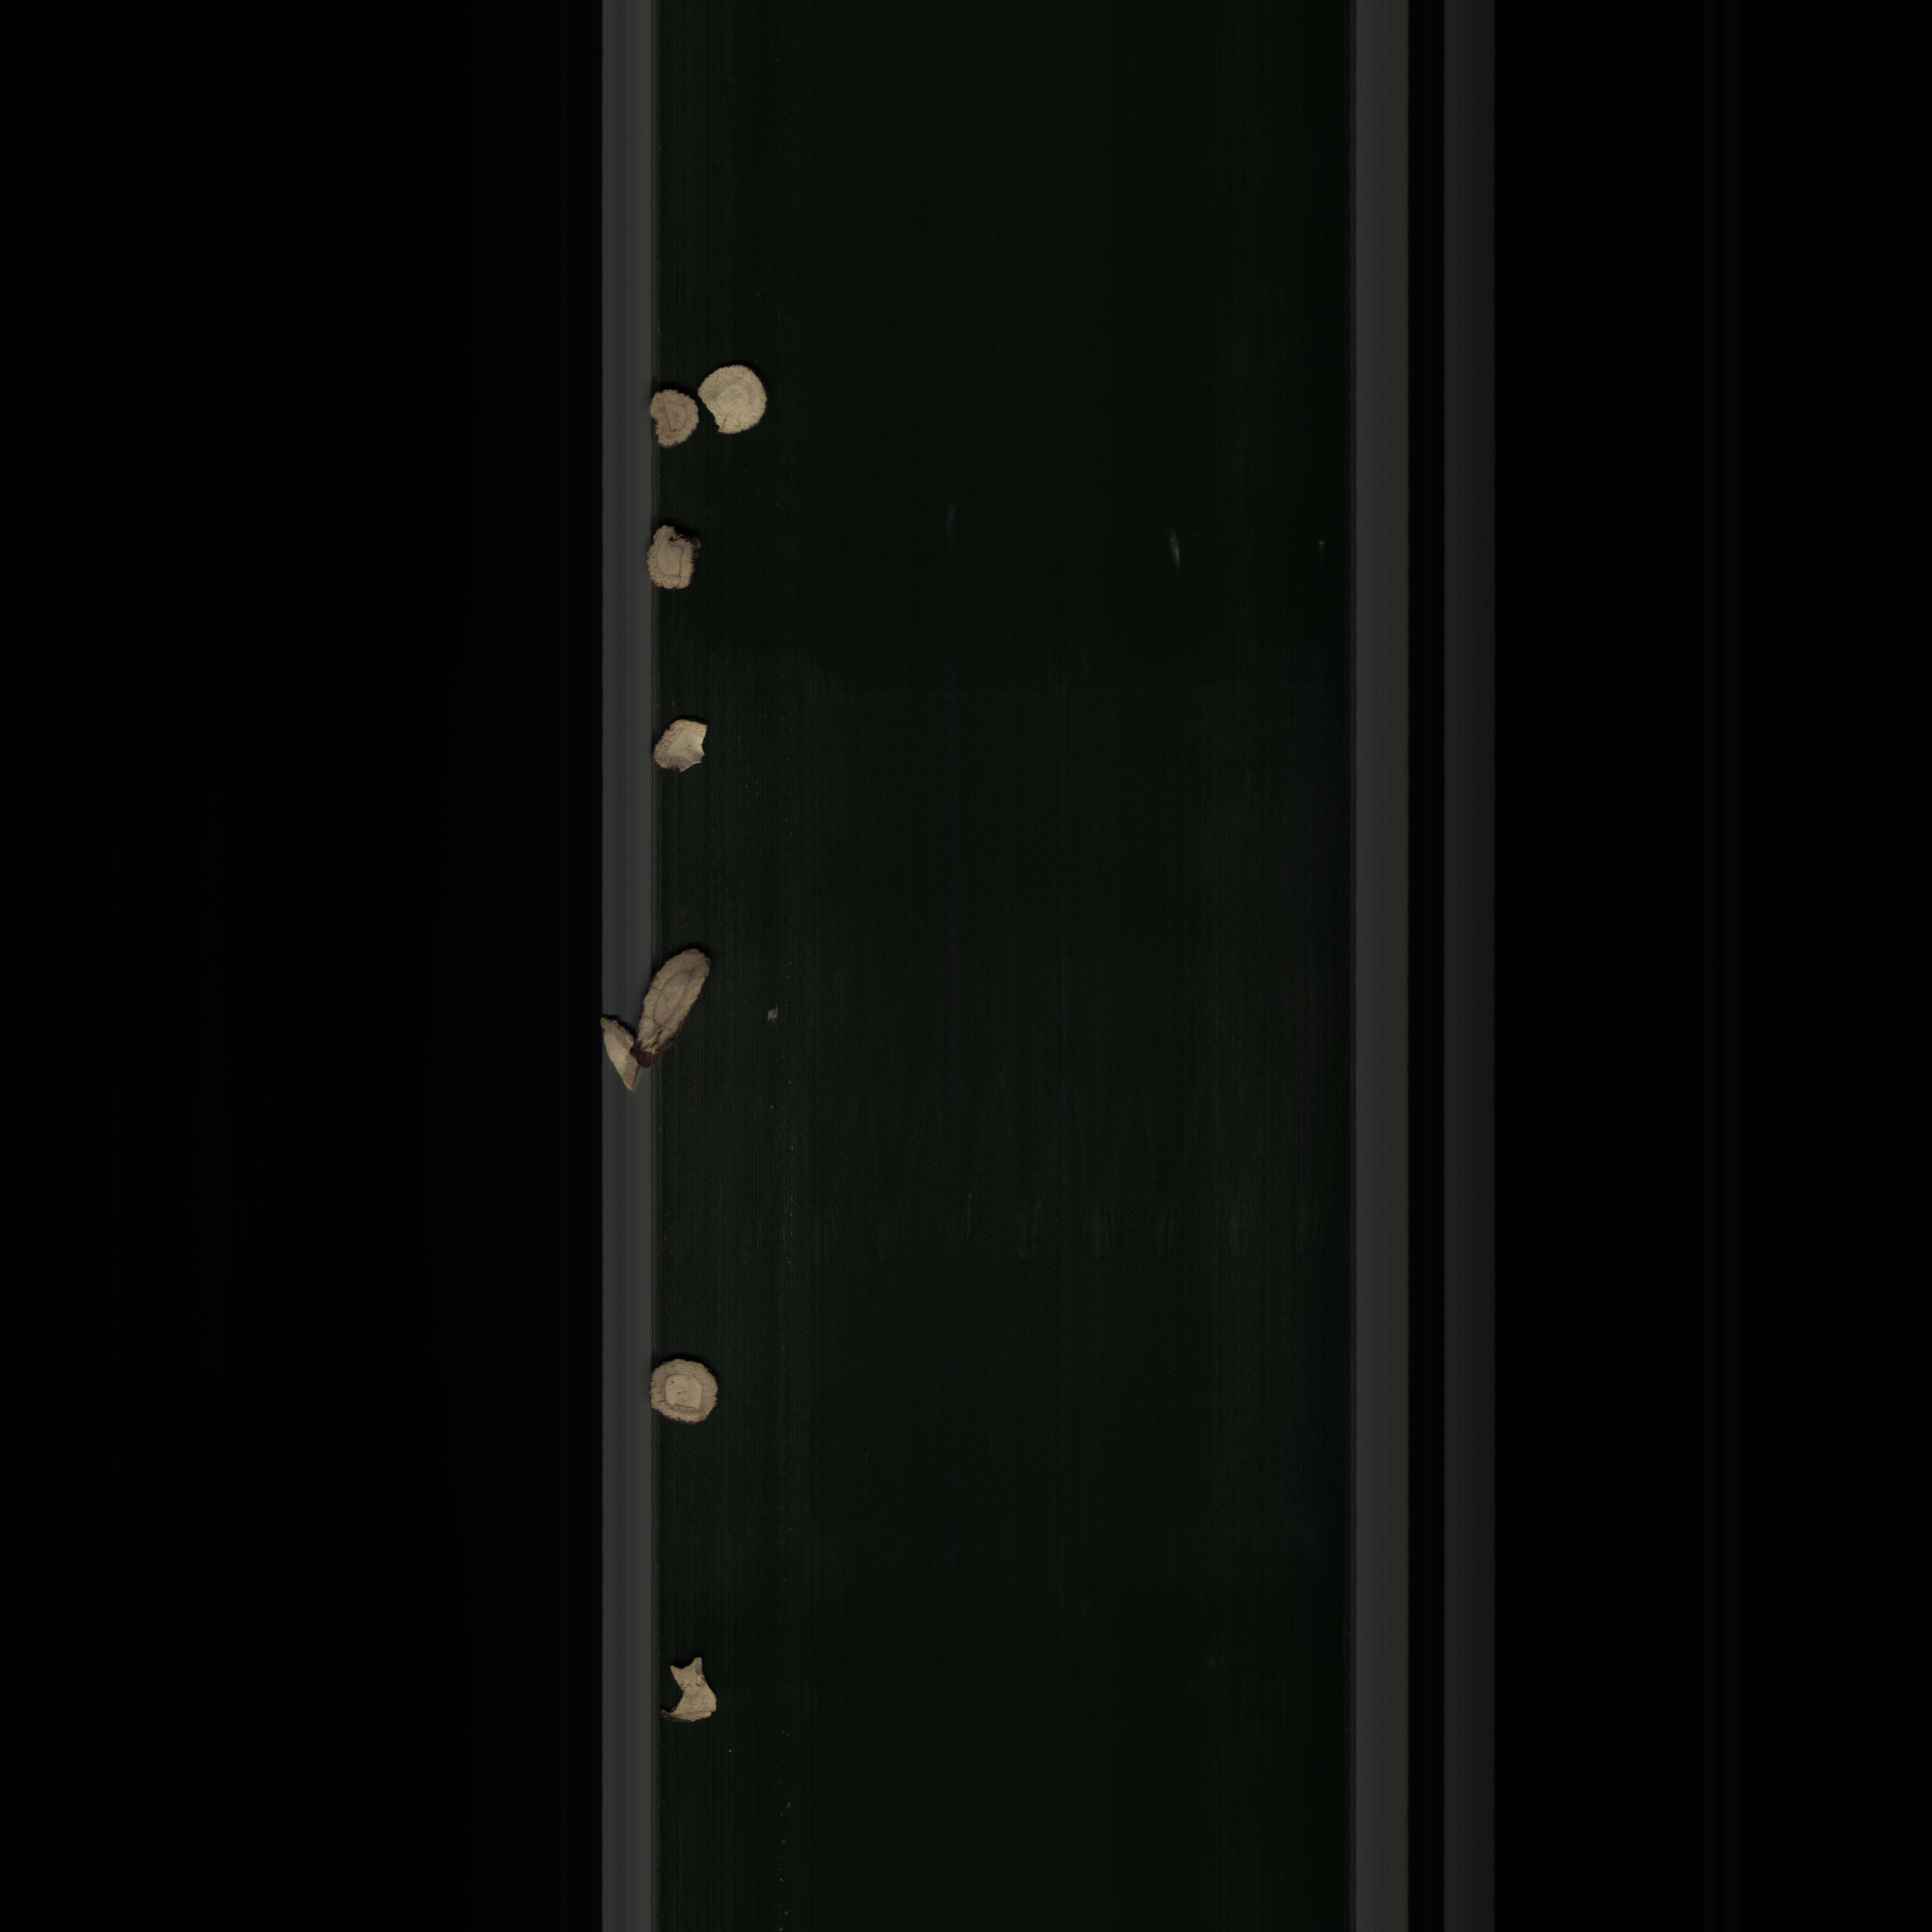debris: (658, 1658, 731, 1727), (648, 711, 715, 778)
distortion: (633, 941, 718, 1070), (640, 524, 706, 594)
moldy: (648, 389, 697, 455)
